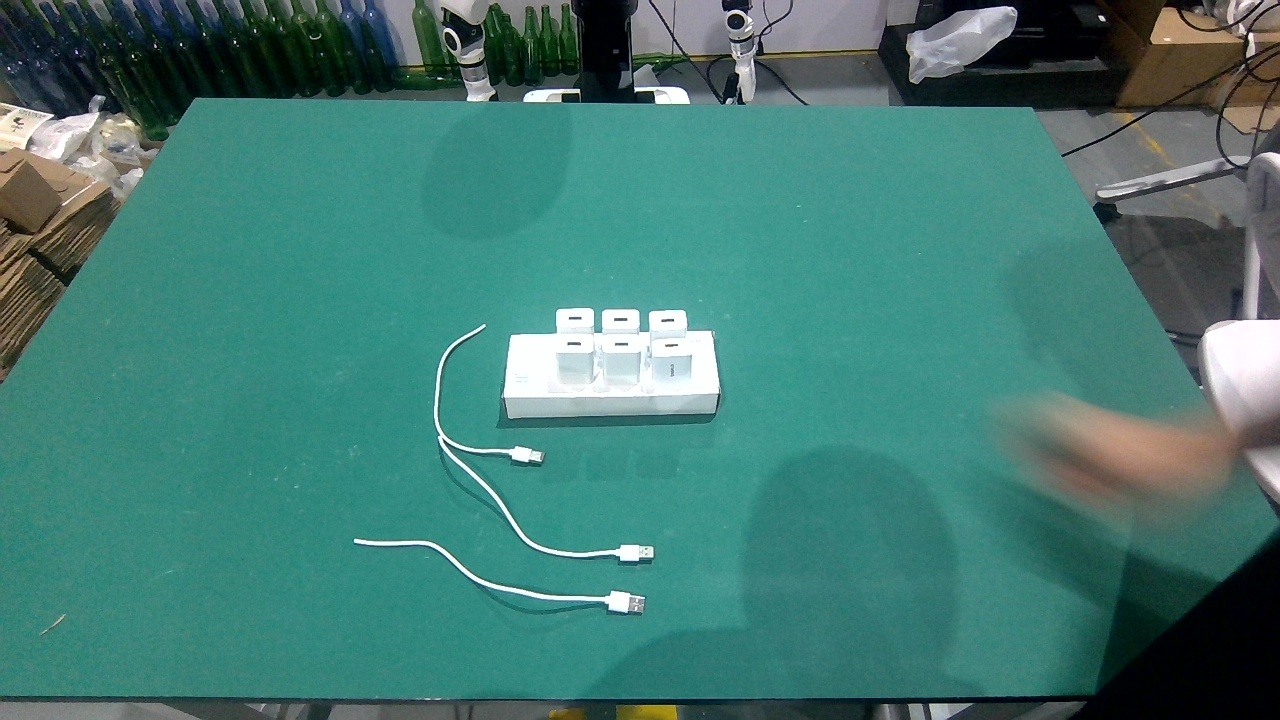usb_a_port: (612, 316, 629, 323), (659, 317, 676, 324), (566, 341, 583, 348), (613, 341, 630, 348), (663, 343, 680, 349), (567, 316, 583, 322)
